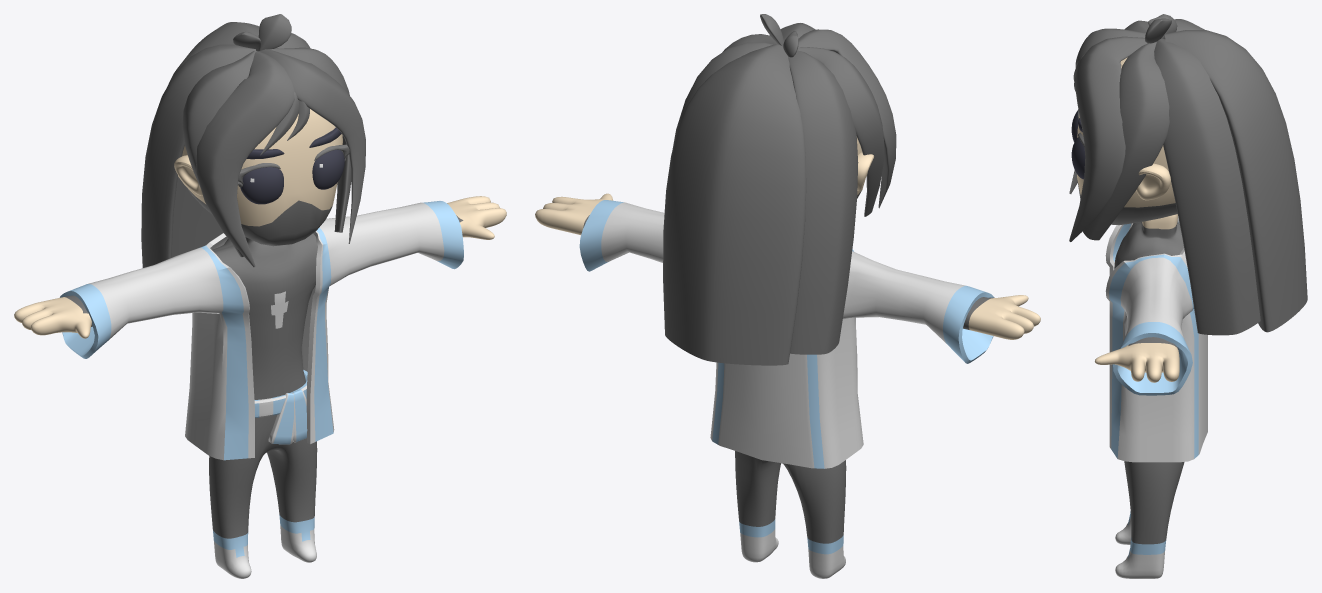
File: ALQUIMISTA.fbx
The picture shows the model from 3 angles, left to right: view 1: azimuth 30°, elevation 25°; view 2: azimuth 150°, elevation 25°; view 3: azimuth 270°, elevation 25°; orthographic projection. The views are drawn at different scales.
Visible parts, largest first — view 1: Cube.002, Cube.001, NurbsPath, NurbsPath.006, Cube, NurbsPath.001, NurbsPath.005, Sphere.001, NurbsPath.004, Cube.004, Cube.003, Torus.005; view 2: NurbsPath.005, Cube.002, NurbsPath.006, Cube.001, NurbsPath.001, NurbsPath, NurbsPath.004; view 3: NurbsPath.006, Cube.002, NurbsPath.005, Cube.001, NurbsPath, NurbsPath.001, Cube, Cube.009, NurbsPath.004, Sphere.001.
Part boxes in pixels (x1,y1,x2,y2): Cube.002: (60, 201, 463, 460); Cube.001: (14, 196, 506, 578); NurbsPath: (196, 49, 365, 267); NurbsPath.006: (141, 33, 310, 267); Cube: (178, 109, 342, 246); NurbsPath.001: (182, 47, 351, 256); NurbsPath.005: (168, 22, 259, 257); Sphere.001: (240, 149, 344, 204); NurbsPath.004: (233, 14, 291, 51); Cube.004: (268, 393, 294, 444); Cube.003: (292, 389, 307, 442); Torus.005: (254, 370, 307, 417); NurbsPath.005: (663, 44, 806, 365); Cube.002: (579, 200, 993, 468); NurbsPath.006: (672, 42, 858, 354); Cube.001: (535, 193, 1040, 578); NurbsPath.001: (722, 34, 884, 216); NurbsPath: (780, 23, 896, 208); NurbsPath.004: (760, 14, 798, 57); NurbsPath.006: (1154, 19, 1260, 335); Cube.002: (1105, 216, 1207, 462); NurbsPath.005: (1165, 30, 1307, 332); Cube.001: (1094, 214, 1184, 578); NurbsPath: (1069, 28, 1147, 241); NurbsPath.001: (1083, 20, 1169, 240); Cube: (1077, 57, 1177, 225); Cube.009: (1136, 163, 1170, 200); NurbsPath.004: (1145, 14, 1177, 43); Sphere.001: (1071, 110, 1085, 179).
Bounding box in the file's own units: 164 × 177 × 69.2.
